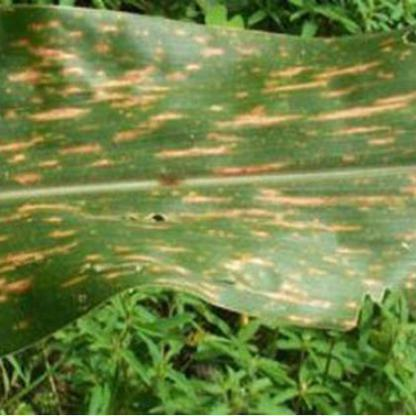Corn Gray leaf spot: (6, 2, 415, 364)
